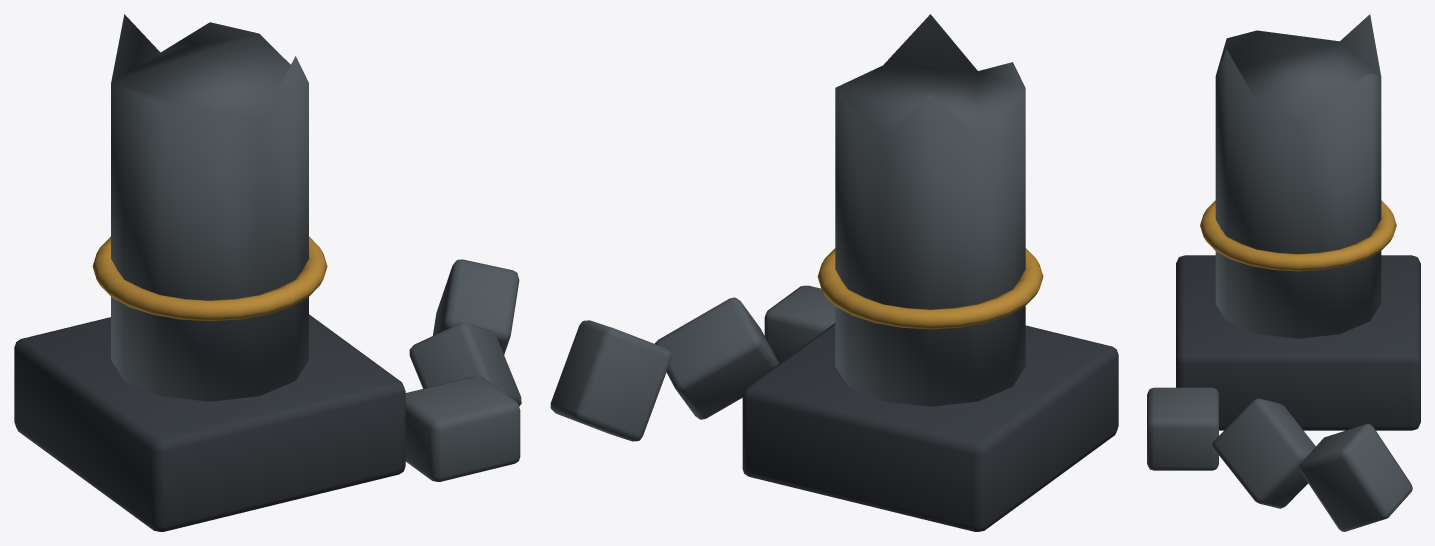
File: ruin_pillar.glb
3 renders of one model, left to right at view 1: azimuth 30°, elevation 25°; view 2: azimuth 150°, elevation 25°; view 3: azimuth 270°, elevation 25°, orthographic. The views are drawn at different scales.
Visible parts, largest first — view 1: ruin_pillar; view 2: ruin_pillar; view 3: ruin_pillar.
Boxes of the visible parts, x1,y1,x2,y2 form: ruin_pillar: [14, 14, 521, 531]; ruin_pillar: [550, 14, 1118, 531]; ruin_pillar: [1147, 14, 1420, 531].
Size of the model in its own units: 3.16 by 2.88 by 1.9.
